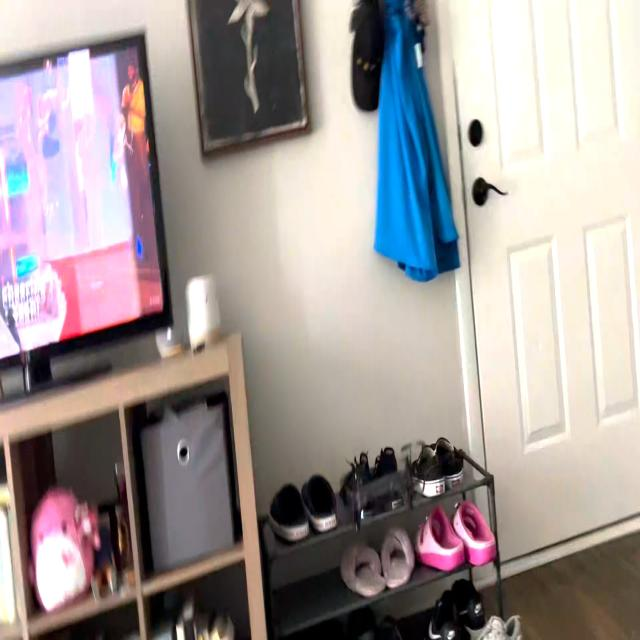drone: (336, 434, 431, 548)
